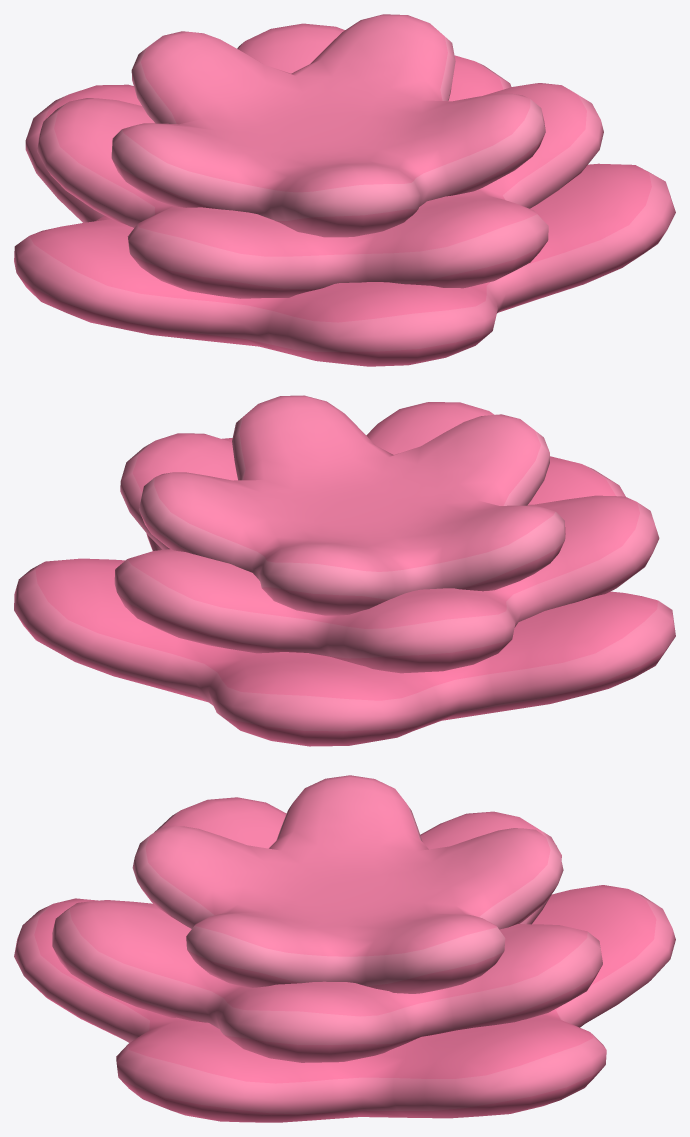
Rendered from water_lily_2.fbx.
3 renders of one model, top to bottom at view 1: azimuth 30°, elevation 25°; view 2: azimuth 150°, elevation 25°; view 3: azimuth 270°, elevation 25°, orthographic. The views are drawn at different scales.
Parts seen in each view (by area): view 1: water_lily_2; view 2: water_lily_2; view 3: water_lily_2.
Part boxes in pixels (x1,y1,x2,y2): water_lily_2: (14, 14, 675, 366); water_lily_2: (14, 395, 675, 746); water_lily_2: (14, 775, 675, 1122).
Bounding box in the file's own units: 112 × 36.84 × 114.
Materials: 1 (1 with a texture image).
